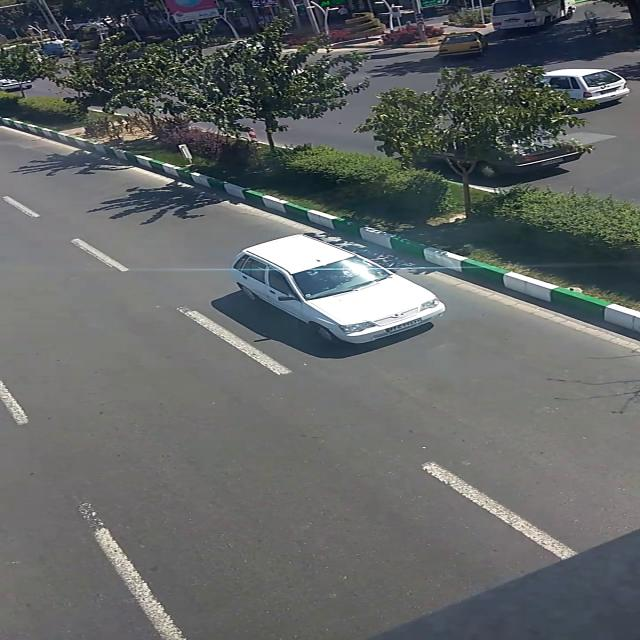car: (231, 235, 444, 349), (481, 127, 587, 177), (548, 65, 630, 107), (493, 0, 575, 33), (437, 31, 487, 60)
